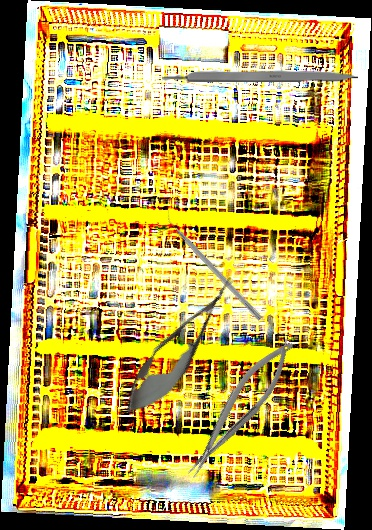Chopper: (160, 207, 269, 322)
Micro Scissor: (112, 265, 249, 427)
Needle Holder: (173, 331, 306, 484)
Scalpel Handle: (162, 69, 358, 82)
